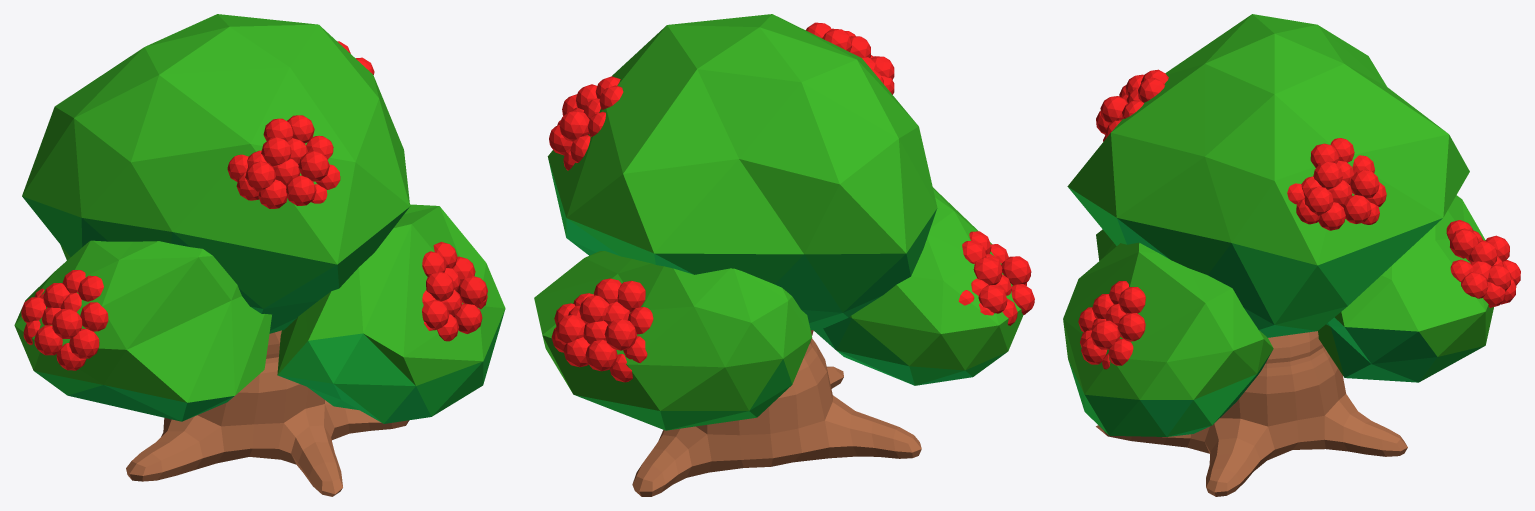
Rendered from BerryBush.fbx.
3 renders of one model, left to right at view 1: azimuth 30°, elevation 25°; view 2: azimuth 150°, elevation 25°; view 3: azimuth 270°, elevation 25°, orthographic. The views are drawn at different scales.
Visible parts, largest first — view 1: Berry Bush; view 2: Berry Bush; view 3: Berry Bush.
Boxes of the visible parts, x1,y1,x2,y2 form: Berry Bush: (14,14,505,496); Berry Bush: (534,14,1034,496); Berry Bush: (1063,14,1520,496).
Bounding box in the file's own units: 5.54 × 5.07 × 5.27.
